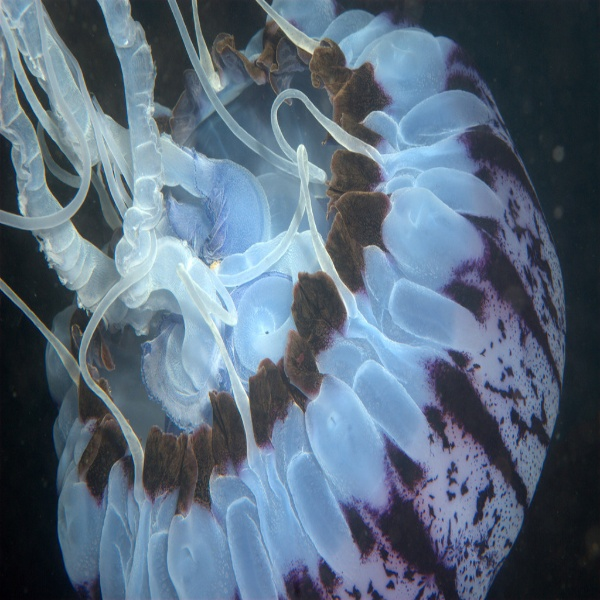Jellyfish: (0, 0, 567, 599)
